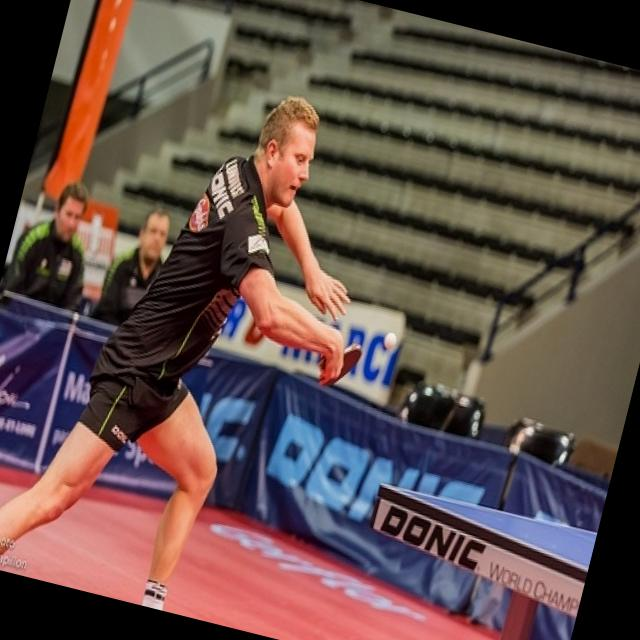TT Racket: (312, 331, 367, 397)
TT Table: (389, 449, 602, 573)
